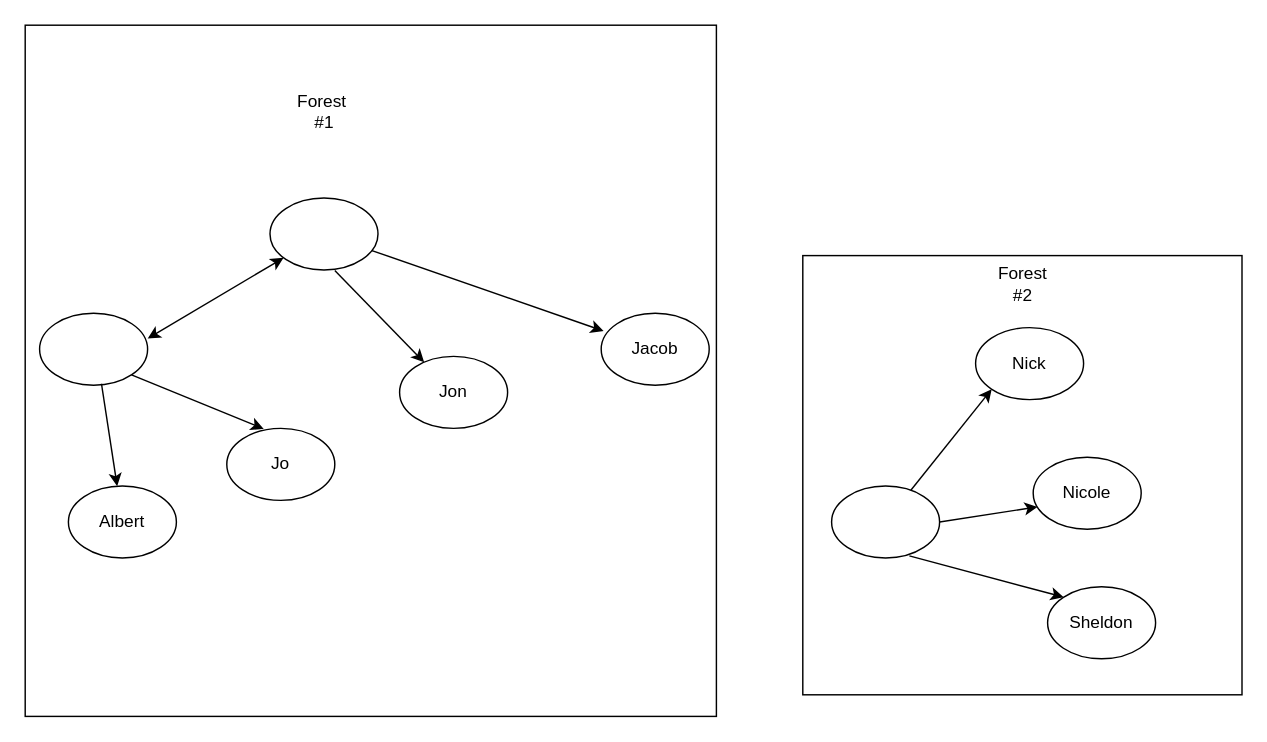
The diagram is 1267 pixels wide and 742 high, and some of its shapes have lost their labels. The shapes that lost their labels are listed below. From the top down, each one's centre as x and y in pixels, then its label:
(x=323, y=233): Alex
(x=93, y=348): Sussy
(x=885, y=521): Bobby
